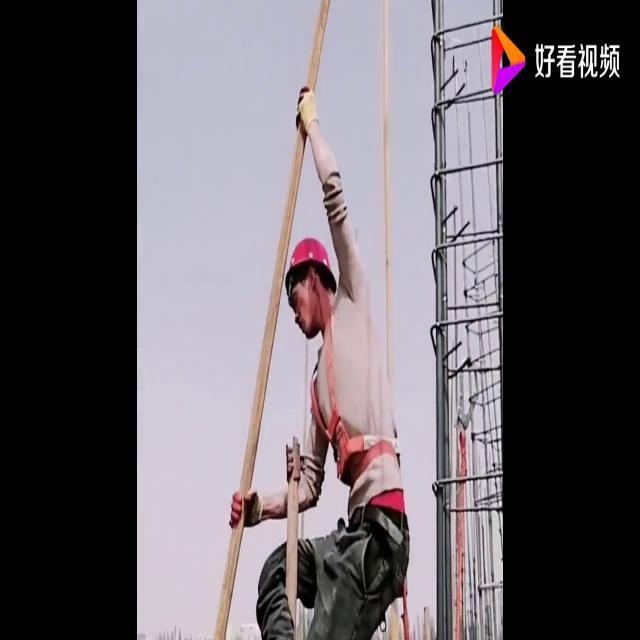Arnes_seguridad: (307, 301, 403, 486)
